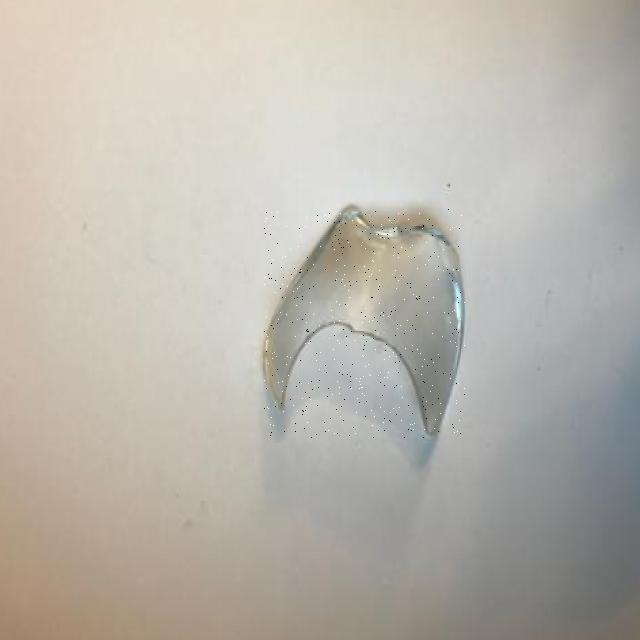glass: (265, 209, 465, 437)
